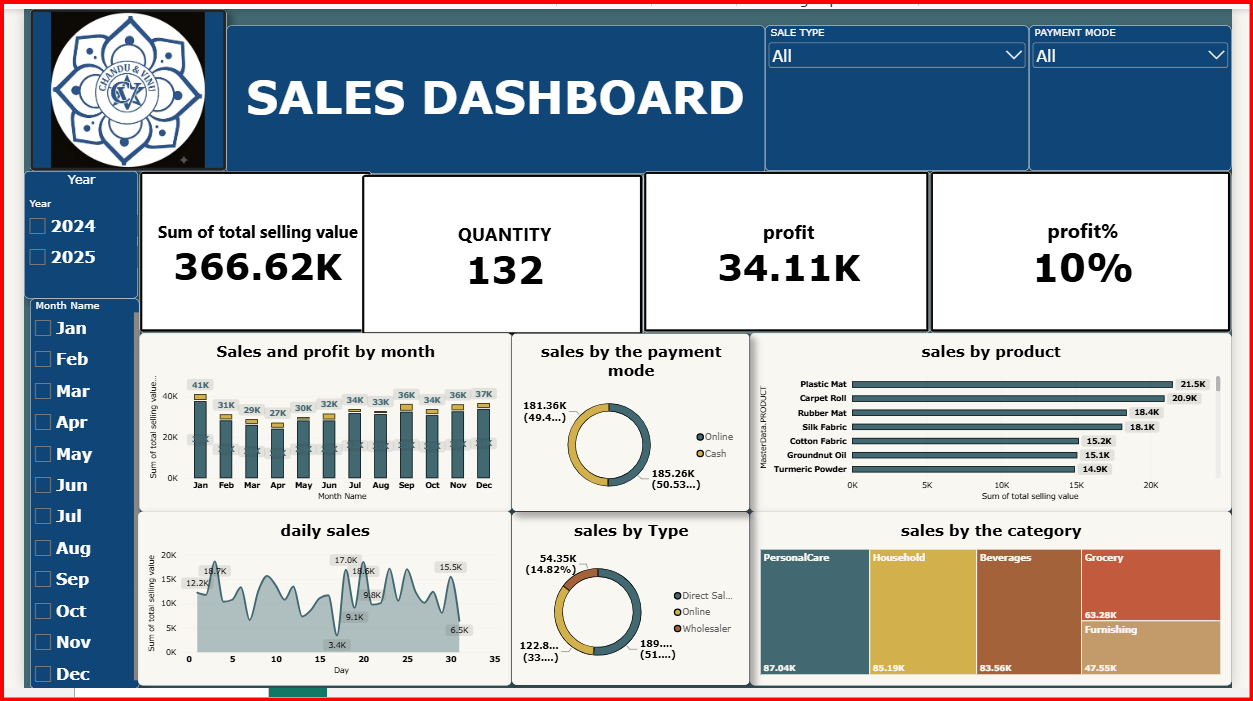

Layout of this report page (visuals, bound fields, positions):
{"tool":"powerbi","page":{"name":"Sales dashboard","canvas":[1920,1080],"ordinal":0},"visuals":[{"type":"shape","box":[9.5,0,312.6,257.7],"z":0},{"type":"image","box":[9.5,0,312.6,257.7],"z":1000},{"type":"textbox","box":[322.1,26.2,856.5,236.2],"z":2000},{"type":"slicer","title":"Year","fields":{"Values":["InputData.Year"]},"box":[0,257.7,181.3,202.8],"z":3000},{"type":"slicer","fields":{"Values":["InputData.SALE TYPE"]},"box":[1178.6,26.2,419.9,231.4],"z":4000},{"type":"slicer","fields":{"Values":["InputData.Month Name"]},"box":[9.5,460.5,174.2,620.3],"z":5000},{"type":"slicer","fields":{"Values":["InputData.PAYMENT MODE"]},"box":[1598.6,26.2,322.1,231.4],"z":6000},{"type":"cardVisual","fields":{"Data":["Sum(InputData.total selling value)"]},"box":[183.7,257.7,369.8,257.7],"z":7000},{"type":"cardVisual","fields":{"Data":["Sum(InputData.QUANTITY)"]},"box":[536.8,262.5,448.6,257.7],"z":8000},{"type":"cardVisual","fields":{"Data":["InputData.profit"]},"box":[985.4,257.7,455.7,257.7],"z":9000},{"type":"cardVisual","fields":{"Data":["InputData.profit%"]},"box":[1441.1,257.7,479.6,257.7],"z":10000},{"type":"columnChart","title":"Sales and profit by month","fields":{"Category":["InputData.Month Name"],"Y":["Sum(InputData.total selling value)","InputData.profit"]},"box":[183.7,515.4,591.7,283.9],"z":11000},{"type":"areaChart","title":"daily sales","fields":{"Category":["InputData.Day"],"Y":["Sum(InputData.total selling value)"]},"box":[181.3,799.3,594.1,276.8],"z":12000},{"type":"clusteredBarChart","title":"sales by product","fields":{"Category":["InputData.MasterData.PRODUCT"],"Y":["Sum(InputData.total selling value)"]},"box":[1154.8,515.4,765.9,283.9],"z":13000},{"type":"treemap","title":"sales by the category","fields":{"Group":["InputData.MasterData.CATEGORY"],"Values":["Sum(InputData.total selling value)"]},"box":[1154.8,799.3,765.9,276.8],"z":14000},{"type":"donutChart","title":"sales by Type","fields":{"Category":["InputData.SALE TYPE"],"Y":["Sum(InputData.total selling value)"]},"box":[775.4,799.3,379.4,276.8],"z":14001},{"type":"donutChart","title":"sales by the payment mode","fields":{"Category":["InputData.PAYMENT MODE"],"Y":["Sum(InputData.total selling value)"]},"box":[775.4,515.4,379.4,283.9],"z":14002}]}

Visuals, with their boxes in screenshot pixels (x1, y1, x2, y2), scaled from the page's 1920x1080 canvas onto the 1253x701 screenshot:
shape: 6 0 210 167
image: 6 0 210 167
textbox: 210 17 769 170
"Year" slicer: 0 167 118 299
slicer - InputData.SALE TYPE: 769 17 1043 167
slicer - InputData.Month Name: 6 299 120 700
slicer - InputData.PAYMENT MODE: 1043 17 1252 167
cardVisual - Sum(InputData.total selling value): 120 167 361 335
cardVisual - Sum(InputData.QUANTITY): 350 170 643 338
cardVisual - InputData.profit: 643 167 940 335
cardVisual - InputData.profit%: 940 167 1252 335
"Sales and profit by month" columnChart: 120 335 506 519
"daily sales" areaChart: 118 519 506 698
"sales by product" clusteredBarChart: 754 335 1252 519
"sales by the category" treemap: 754 519 1252 698
"sales by Type" donutChart: 506 519 754 698
"sales by the payment mode" donutChart: 506 335 754 519
